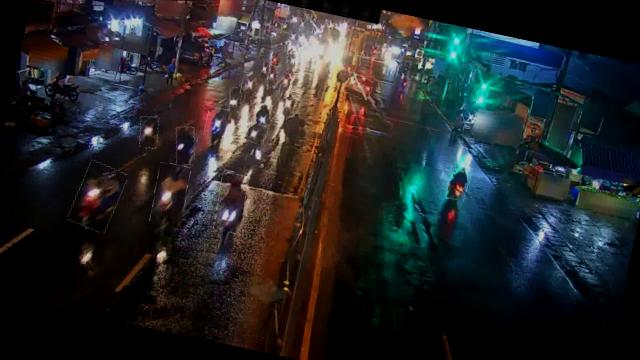Bike: (68, 158, 128, 233), (147, 160, 192, 229), (212, 171, 250, 233), (172, 124, 200, 166), (203, 105, 231, 146), (446, 163, 473, 202), (137, 114, 162, 149), (244, 119, 269, 145), (252, 102, 273, 126), (226, 87, 244, 112), (278, 70, 292, 94), (266, 65, 280, 87), (240, 71, 253, 94)
Car: (343, 72, 374, 100)
